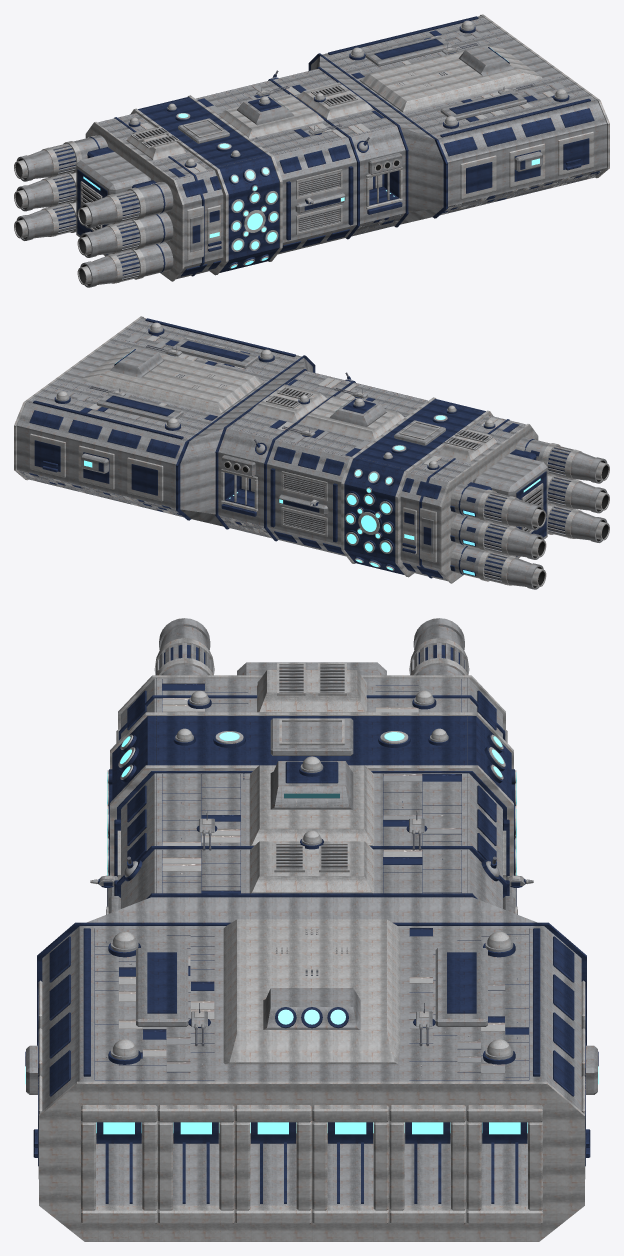
File: 機戰風_聯盟.glb
3 views of the same model, one above another, from view 1: azimuth 30°, elevation 25°; view 2: azimuth 150°, elevation 25°; view 3: azimuth 270°, elevation 25° (orthographic). The views are drawn at different scales.
Visible parts, largest first — view 1: bow_bow_mid, mid_mid, bow_light, bow_dark, bow_mid, ring_dark, stern_mid, stern_light, hangar_hull_mid, ring_light, engines.thruster.001, engines.thruster.003 (+14 smaller); view 2: bow_bow_mid, mid_mid, bow_light, bow_dark, bow_mid, ring_dark, stern_mid, stern_light, hangar_hull_mid, ring_light, engines.thruster, engines.thruster.002 (+14 smaller); view 3: bow_light, bow_bow_mid, bow_bow_light, bow_dark, bow_mid, mid_mid, ring_dark, hangar_hull_mid, stern_mid, ring_light, mid_light, stern_light (+10 smaller).
Part boxes in pixels (left/top/right/bottom): bow_bow_mid: left=322, top=15, right=606, bottom=213; mid_mid: left=196, top=80, right=356, bottom=254; bow_light: left=359, top=45, right=593, bottom=199; bow_dark: left=308, top=16, right=594, bottom=227; bow_mid: left=311, top=36, right=542, bottom=224; ring_dark: left=138, top=97, right=279, bottom=272; stern_mid: left=76, top=113, right=223, bottom=279; stern_light: left=80, top=122, right=220, bottom=281; hangar_hull_mid: left=273, top=68, right=405, bottom=236; ring_light: left=130, top=95, right=282, bottom=275; engines.thruster.001: left=77, top=182, right=173, bottom=228; engines.thruster.003: left=77, top=212, right=173, bottom=257; bow_bow_mid: left=17, top=317, right=301, bottom=517; mid_mid: left=267, top=382, right=427, bottom=556; bow_light: left=30, top=347, right=264, bottom=501; bow_dark: left=29, top=318, right=315, bottom=529; bow_mid: left=81, top=338, right=312, bottom=526; ring_dark: left=344, top=399, right=485, bottom=574; stern_mid: left=400, top=415, right=547, bottom=581; stern_light: left=403, top=424, right=543, bottom=583; hangar_hull_mid: left=218, top=370, right=350, bottom=537; ring_light: left=341, top=397, right=493, bottom=577; engines.thruster: left=450, top=484, right=546, bottom=530; engines.thruster.002: left=450, top=514, right=546, bottom=559; bow_light: left=38, top=919, right=585, bottom=1224; bow_bow_mid: left=42, top=926, right=581, bottom=1205; bow_bow_light: left=39, top=1081, right=584, bottom=1241; bow_dark: left=25, top=893, right=598, bottom=1203; bow_mid: left=26, top=897, right=597, bottom=1094; mid_mid: left=107, top=761, right=516, bottom=906; ring_dark: left=109, top=716, right=514, bottom=875; hangar_hull_mid: left=121, top=849, right=502, bottom=908; stern_mid: left=121, top=662, right=502, bottom=737; ring_light: left=107, top=712, right=516, bottom=875; mid_light: left=117, top=765, right=506, bottom=880; stern_light: left=116, top=663, right=507, bottom=742.
Bounding box in the file's own units: 1200 × 311 × 600.
Materials: 7 (4 with a texture image).
